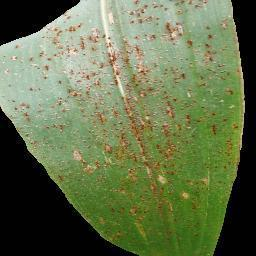Corn_Common_Rust: (35, 0, 248, 110), (98, 111, 246, 255), (34, 111, 96, 190), (2, 39, 36, 157)
